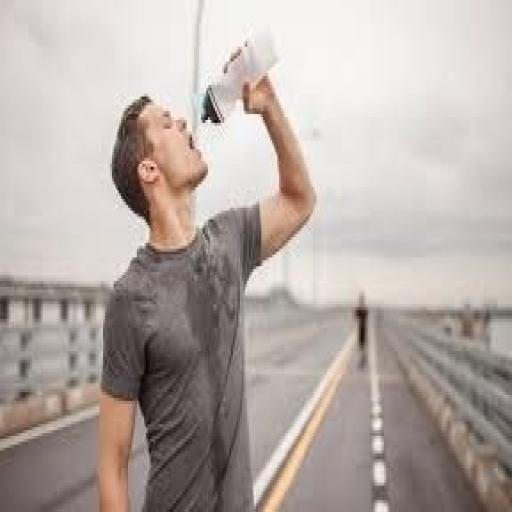drinking: (67, 20, 279, 285)
